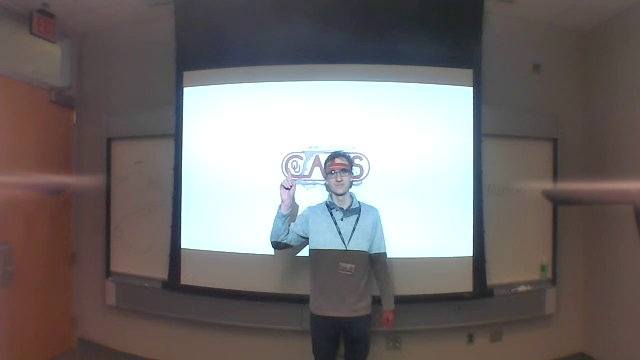up: (277, 166, 303, 200)
